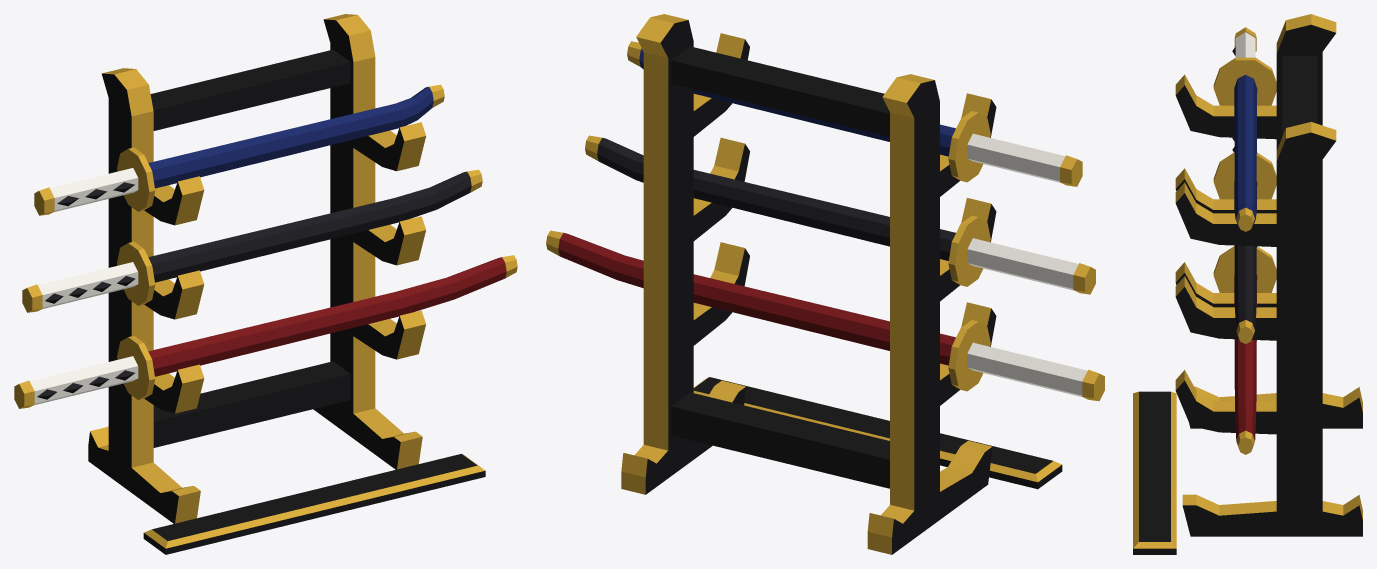
The model's file is katana-stand.glb.
3 renders of one model, left to right at view 1: azimuth 30°, elevation 25°; view 2: azimuth 150°, elevation 25°; view 3: azimuth 270°, elevation 25°, orthographic. The views are drawn at different scales.
Parts seen in each view (by area): view 1: Stand, Gold, SheathBlack, SheathRed, SheathBlue, Grips; view 2: Stand, Gold, Grips, SheathRed, SheathBlack, SheathBlue; view 3: Stand, Gold, SheathBlue, SheathRed, SheathBlack, Grips.
Part boxes in pixels (<box>): Stand: <box>88,19,485,554</box>; Gold: <box>14,14,517,548</box>; SheathBlack: <box>37,171,471,399</box>; SheathRed: <box>148,257,506,376</box>; SheathBlue: <box>148,86,433,188</box>; Grips: <box>30,168,138,405</box>; Stand: <box>645,20,1062,554</box>; Gold: <box>546,14,1104,554</box>; Grips: <box>967,133,1087,397</box>; SheathRed: <box>558,232,955,365</box>; SheathBlack: <box>597,137,955,260</box>; SheathBlue: <box>639,48,955,156</box>; Stand: <box>1133,24,1362,554</box>; Gold: <box>1133,14,1362,548</box>; SheathBlue: <box>1234,74,1257,227</box>; SheathRed: <box>1234,275,1257,440</box>; SheathBlack: <box>1232,46,1257,329</box>; Grips: <box>1235,32,1255,57</box>.
Size of the model in its own units: 4.95 by 3.88 by 2.
